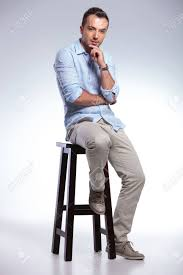sitting: (42, 5, 155, 270)
